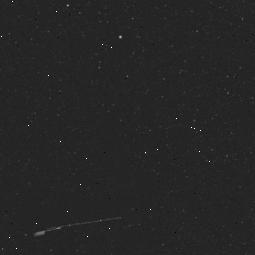xmm_newton: (25, 176, 146, 242)
